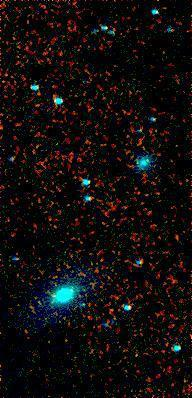star: (47, 121, 77, 151)
